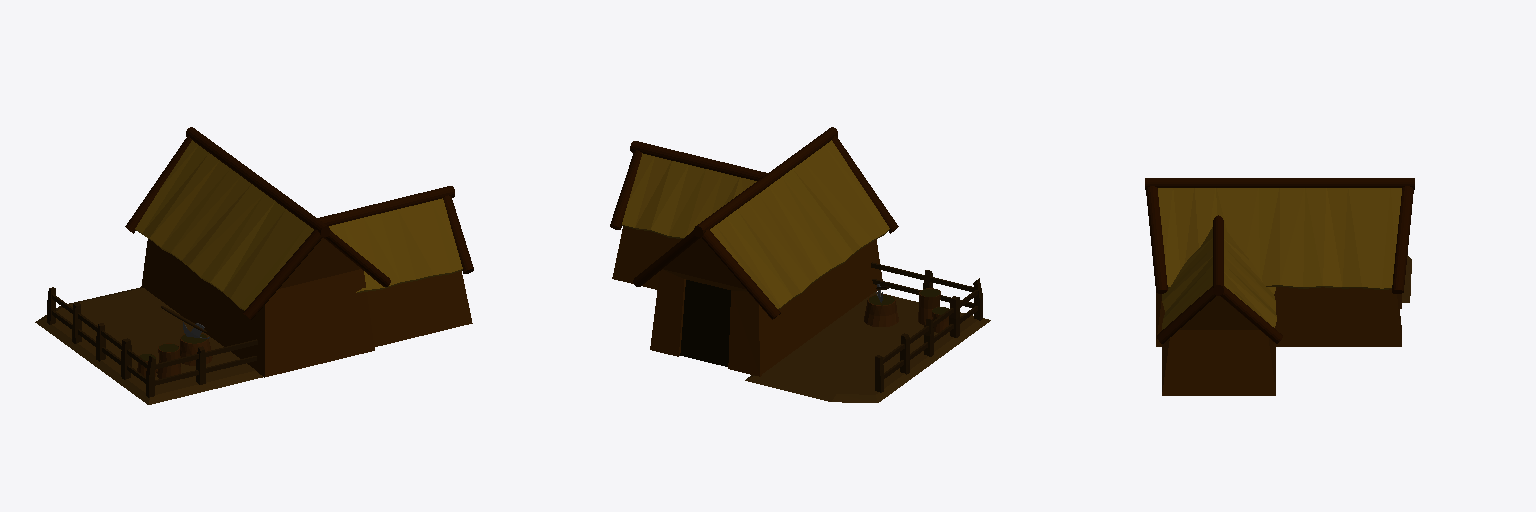
Rendered from Woodcutter.obj.
3 views of the same model, side by side, from view 1: azimuth 30°, elevation 25°; view 2: azimuth 150°, elevation 25°; view 3: azimuth 270°, elevation 25° (orthographic).
Parts seen in each view (by area): view 1: Plane, Cube_Cube.001, Cube.016_Cube.019, Plane.005, Cube.004, Cylinder_Cylinder.001, Cylinder.003_Cylinder.000, Cylinder.001_Cylinder.003, Cylinder.002_Cylinder.006, Cube.015_Cube.018, Cube.014_Cube.017; view 2: Plane, Cube_Cube.001, Cube.016_Cube.019, Plane.005, Cube.005_Cube.008, Cube.004, Cylinder_Cylinder.001, Cylinder.003_Cylinder.000, Cylinder.002_Cylinder.006, Cylinder.001_Cylinder.003, Cube.015_Cube.018; view 3: Plane, Cube.004, Cube_Cube.001, Plane.005, Cylinder_Cylinder.001, Cylinder.003_Cylinder.000.
Part boxes in pixels (x1,y1,x2,y2): Plane: (125, 136, 390, 319); Cube_Cube.001: (141, 238, 374, 377); Cube.016_Cube.019: (35, 287, 262, 404); Plane.005: (329, 195, 473, 292); Cube.004: (367, 271, 472, 346); Cylinder_Cylinder.001: (186, 127, 330, 236); Cylinder.003_Cylinder.000: (318, 186, 454, 225); Cylinder.001_Cylinder.003: (137, 343, 180, 378); Cylinder.002_Cylinder.006: (180, 333, 212, 365); Cube.015_Cube.018: (155, 339, 257, 369); Cube.014_Cube.017: (155, 356, 256, 385); Plane: (633, 136, 898, 319); Cube_Cube.001: (650, 238, 882, 376); Cube.016_Cube.019: (745, 292, 990, 402); Plane.005: (610, 150, 756, 238); Cube.005_Cube.008: (680, 280, 730, 366); Cube.004: (612, 226, 681, 289); Cylinder_Cylinder.001: (693, 127, 837, 236); Cylinder.003_Cylinder.000: (630, 141, 767, 180); Cylinder.002_Cylinder.006: (864, 294, 898, 326); Cylinder.001_Cylinder.003: (918, 288, 948, 332); Cube.015_Cube.018: (871, 262, 973, 291); Plane: (1146, 186, 1413, 293); Cube.004: (1162, 296, 1275, 395); Cube_Cube.001: (1156, 287, 1401, 346); Plane.005: (1157, 227, 1282, 343); Cylinder_Cylinder.001: (1145, 178, 1414, 189); Cylinder.003_Cylinder.000: (1213, 215, 1223, 295).
Size of the model in its own units: 3.05 by 1.39 by 2.15.